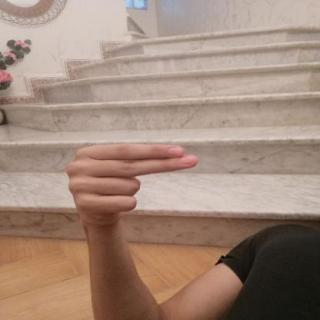AYN: (54, 135, 215, 234)
